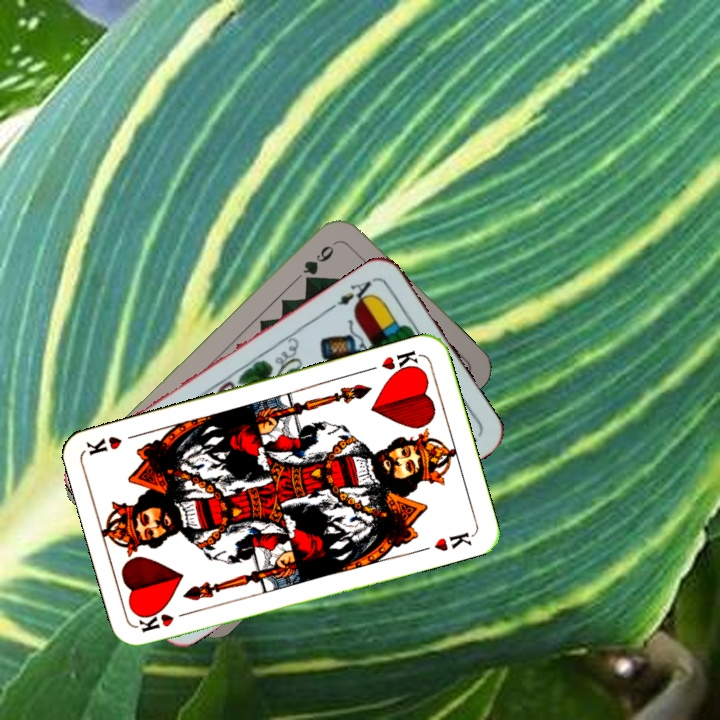EA: (326, 273, 379, 312)
G9: (298, 241, 337, 287)
HK: (365, 346, 423, 378), (135, 607, 194, 636)
